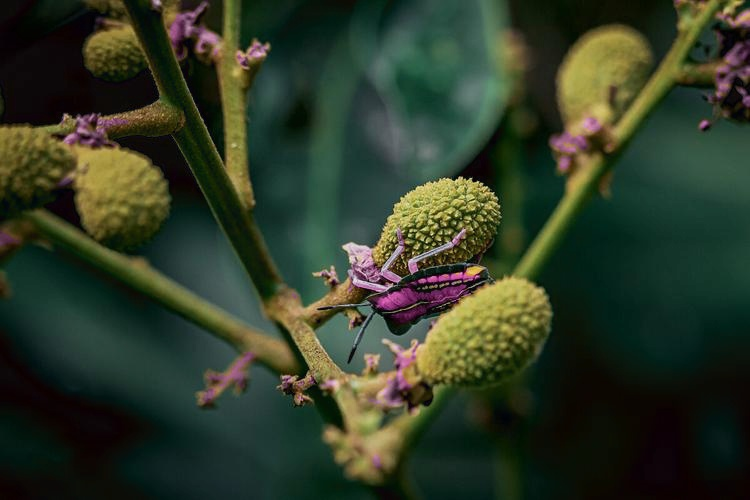Stink_Bug: (352, 236, 489, 332)
